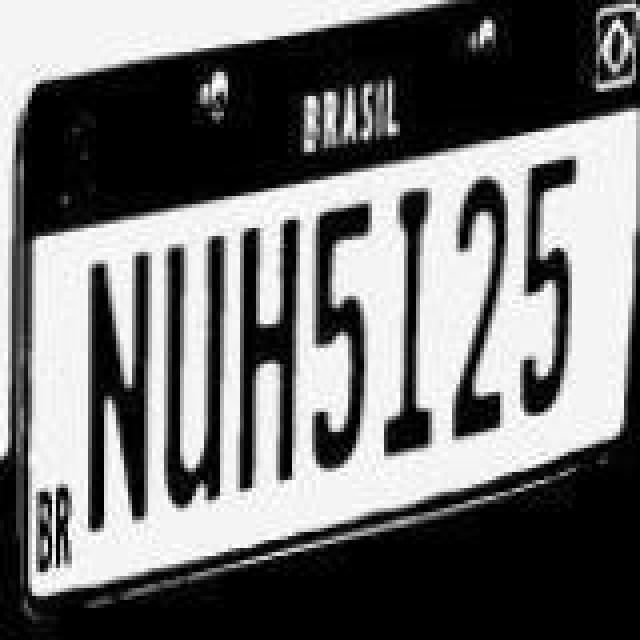2: (442, 168, 514, 452)
5: (308, 194, 376, 478), (518, 156, 582, 424)
H: (234, 212, 306, 500)
I: (378, 180, 442, 468)
N: (86, 248, 158, 556)
U: (158, 228, 230, 528)
